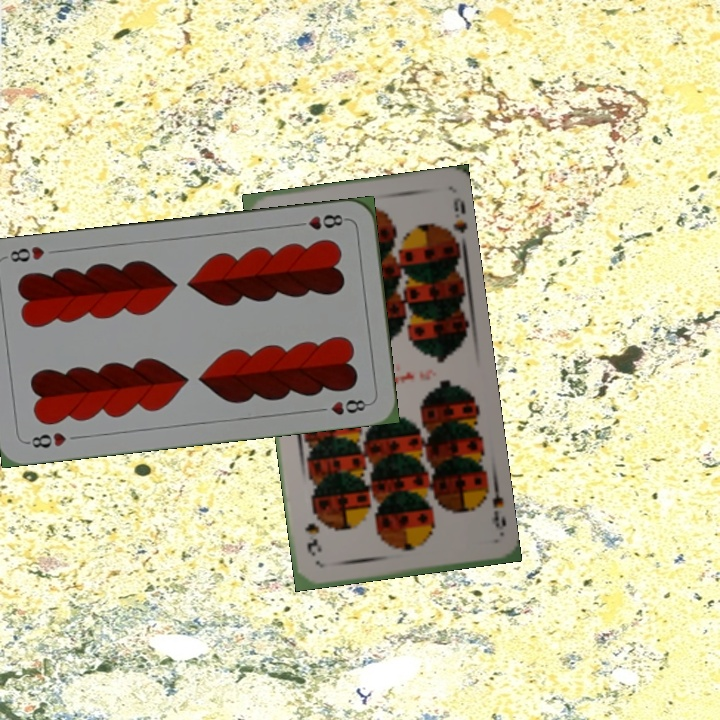H8: (291, 210, 350, 232), (24, 428, 69, 451)
S9: (476, 478, 509, 537)
